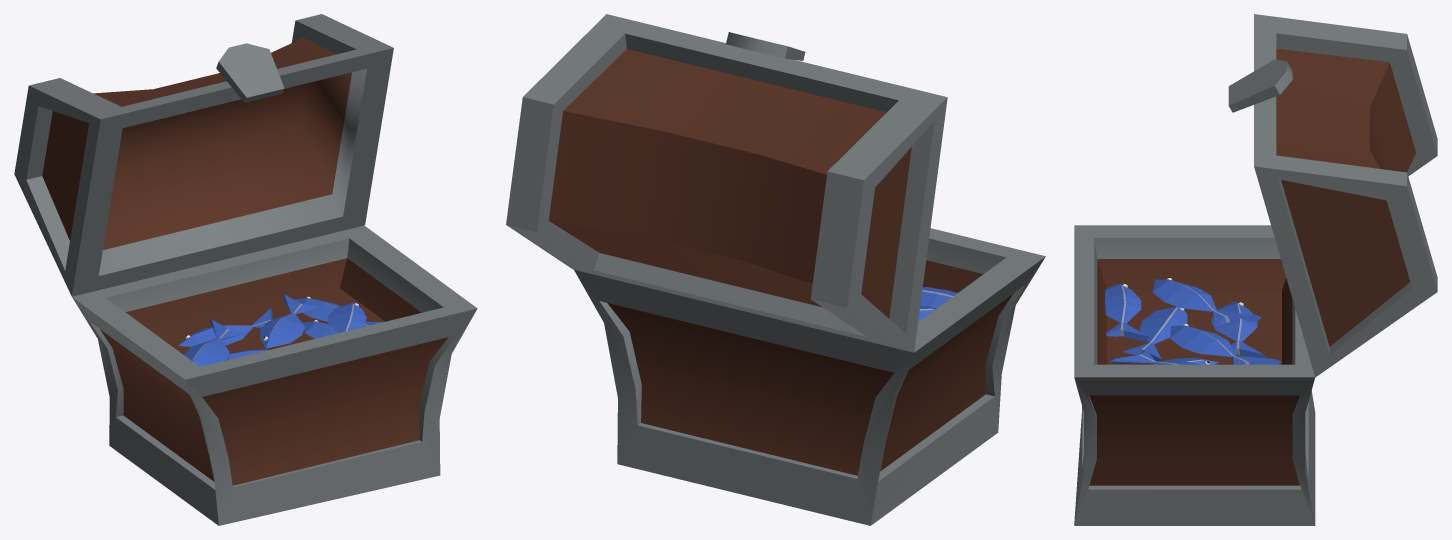
The model's file is simple_chest_open.fbx.
3 views of the same model, side by side, from view 1: azimuth 30°, elevation 25°; view 2: azimuth 150°, elevation 25°; view 3: azimuth 270°, elevation 25° (orthographic). The views are drawn at different scales.
Parts seen in each view (by area): view 1: simple_chest_open; view 2: simple_chest_open; view 3: simple_chest_open.
Part boxes in pixels (left/top/right/bottom): simple_chest_open: left=14, top=14, right=477, bottom=525; simple_chest_open: left=506, top=14, right=1045, bottom=525; simple_chest_open: left=1074, top=14, right=1437, bottom=525.
Size of the model in its own units: 7.99 by 9.94 by 8.06.
